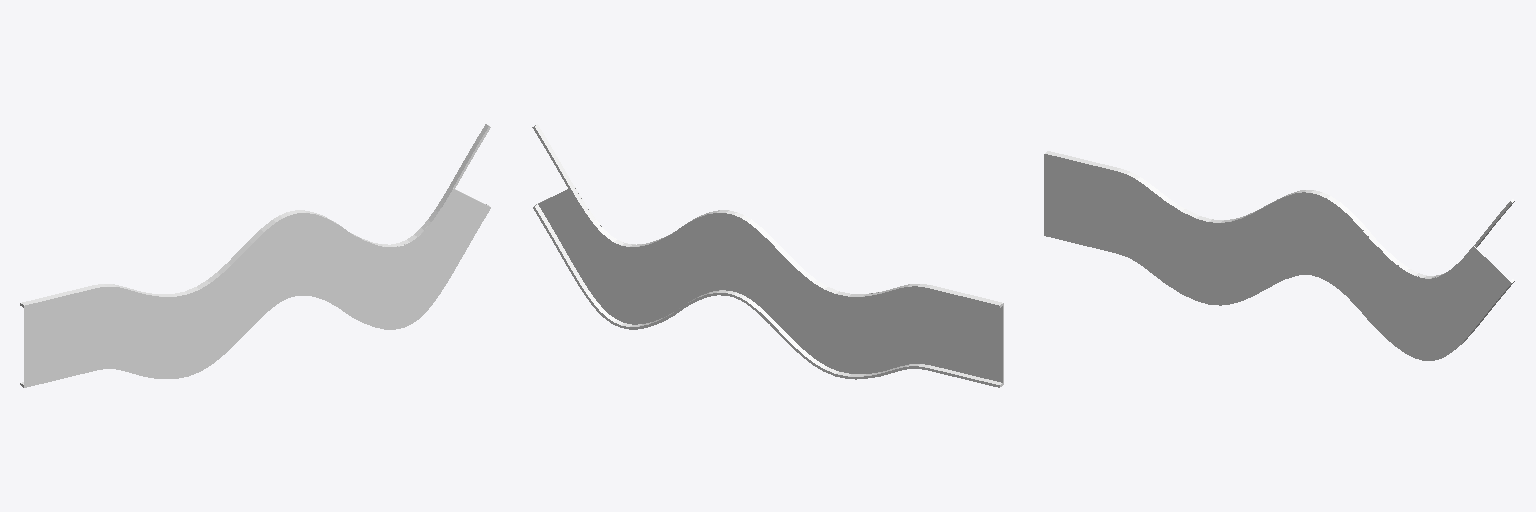
The robot description file, URDF, robot "Chicane":
<robot name="Chicane">
	<link name="Chicane">
		<visual>
			<origin xyz="0 0 0" rpy="0 0 0" />
			<geometry>
				<mesh filename="Chicane_meters.obj" scale="1.0 1.0 1.0" />
			</geometry>
			<material name="texture">
				<color rgba="1.0 1.0 1.0 1.0" />
			</material>
		</visual>
		<collision>
			<geometry>
				<mesh filename="Chicane_meters.obj" scale="1.0 1.0 1.0" />
			</geometry>
		<origin xyz="0 0 0" rpy="0 0 0" /></collision>
		<inertial>
			<mass value="10.0" />
			<inertia ixx="1.0" ixy="0.0" ixz="0.0" iyy="1.0" iyz="0.0" izz="1.0" />
		</inertial>
	</link>
</robot>

--- What the picture shows (computed from the rendered views, not written in the file) ---
The picture shows the robot from 3 angles, left to right: view 1: azimuth 30°, elevation 25°; view 2: azimuth 150°, elevation 25°; view 3: azimuth 330°, elevation 25°; orthographic projection.
Robot: Chicane — 1 links, 0 joints (none); root link Chicane; default pose: every joint at zero.
Links seen in each view (by area): view 1: Chicane; view 2: Chicane; view 3: Chicane.
Boxes of the visible links, box(x1,y1,x2,y2) form: Chicane: box(20, 124, 490, 387); Chicane: box(532, 124, 1003, 387); Chicane: box(1044, 151, 1514, 360).
Size in the robot's own frame: 7.23 by 0.1016 by 2.67 metres.
Meshes: 1 distinct files referenced, 1 mesh visuals loaded (1 OBJ).